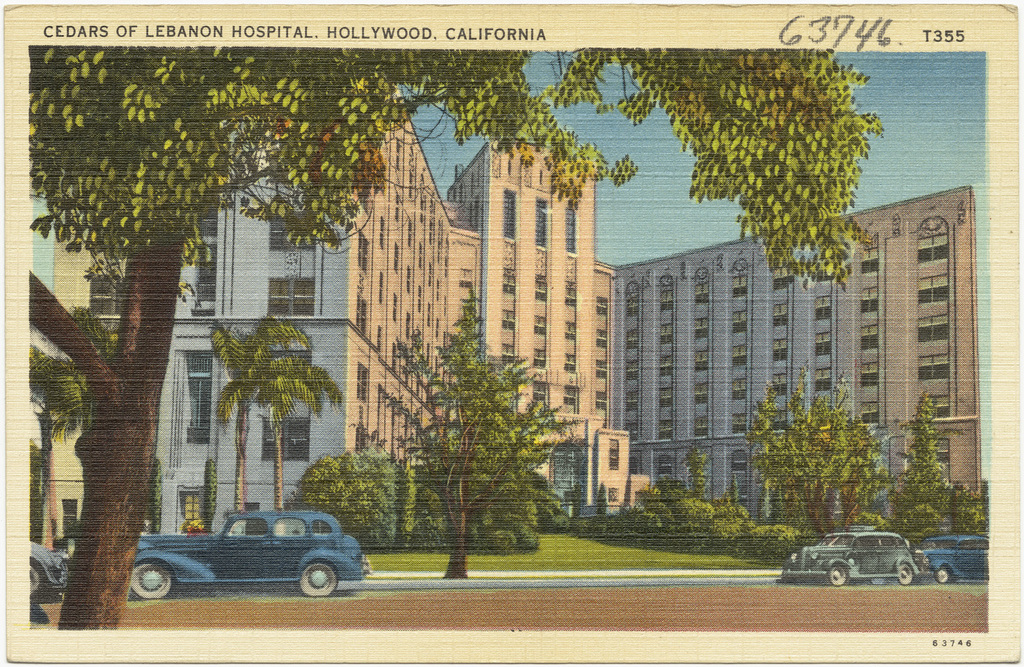Tree: (28, 36, 898, 626), (375, 286, 588, 564), (731, 392, 912, 519), (206, 322, 329, 505), (266, 316, 355, 530), (27, 304, 139, 462), (890, 389, 969, 546), (682, 449, 740, 551)
